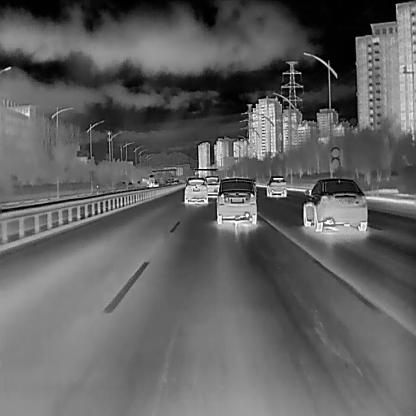car: (302, 175, 367, 230), (215, 177, 257, 225), (183, 176, 208, 202), (265, 175, 286, 198), (205, 174, 221, 197), (126, 180, 132, 184)
